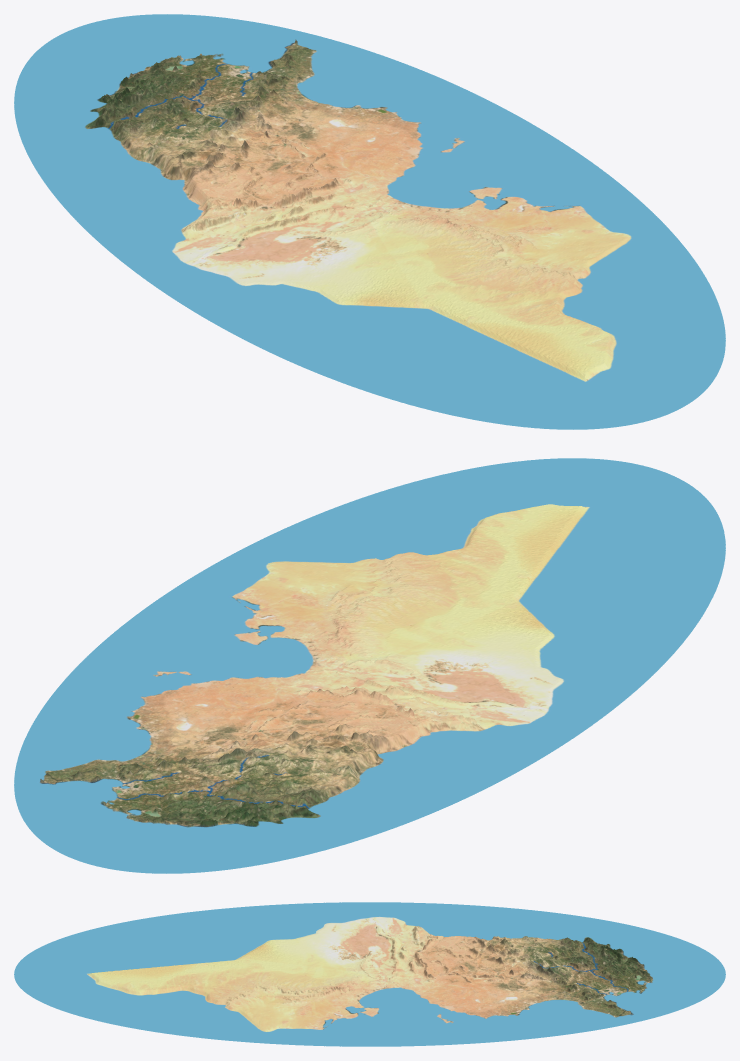
Rendered from TUN-previa-terrain.glb.
3 renders of one model, top to bottom at view 1: azimuth 30°, elevation 25°; view 2: azimuth 150°, elevation 25°; view 3: azimuth 270°, elevation 25°, orthographic. The views are drawn at different scales.
Parts seen in each view (by area): view 1: Tunísia; view 2: Tunísia; view 3: Tunísia.
Part boxes in pixels (left/top/right/bottom): Tunísia: left=14, top=14, right=725, bottom=429; Tunísia: left=14, top=458, right=725, bottom=873; Tunísia: left=14, top=902, right=725, bottom=1046.
Bounding box in the file's own units: 1.06 × 0.0341 × 2.21.
1 material, 1 textured.
